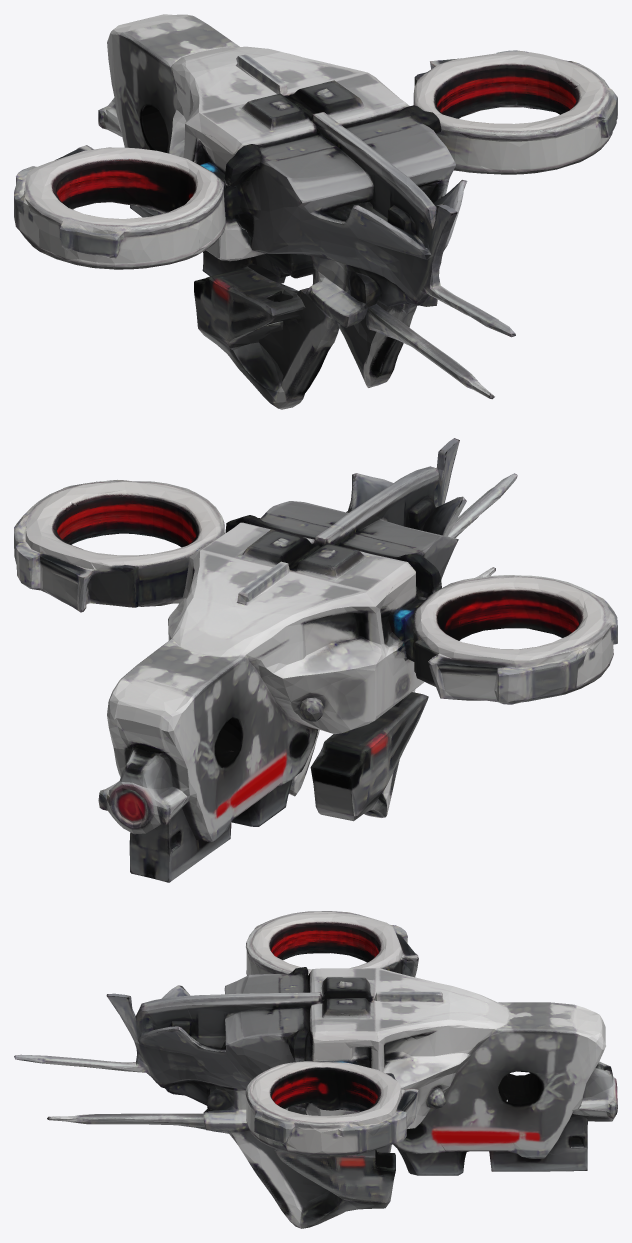
Rendered from drone_musuh.glb.
The picture shows the model from 3 angles, top to bottom: view 1: azimuth 30°, elevation 25°; view 2: azimuth 150°, elevation 25°; view 3: azimuth 270°, elevation 25°; orthographic projection. The views are drawn at different scales.
Visible parts, largest first — view 1: world; view 2: world; view 3: world.
Part boxes in pixels (<box>): world: <box>14,14,617,409</box>; world: <box>14,438,617,882</box>; world: <box>14,911,617,1228</box>.
Bounding box in the file's own units: 0.842 × 0.4022 × 0.9976.
1 material, 1 textured.
